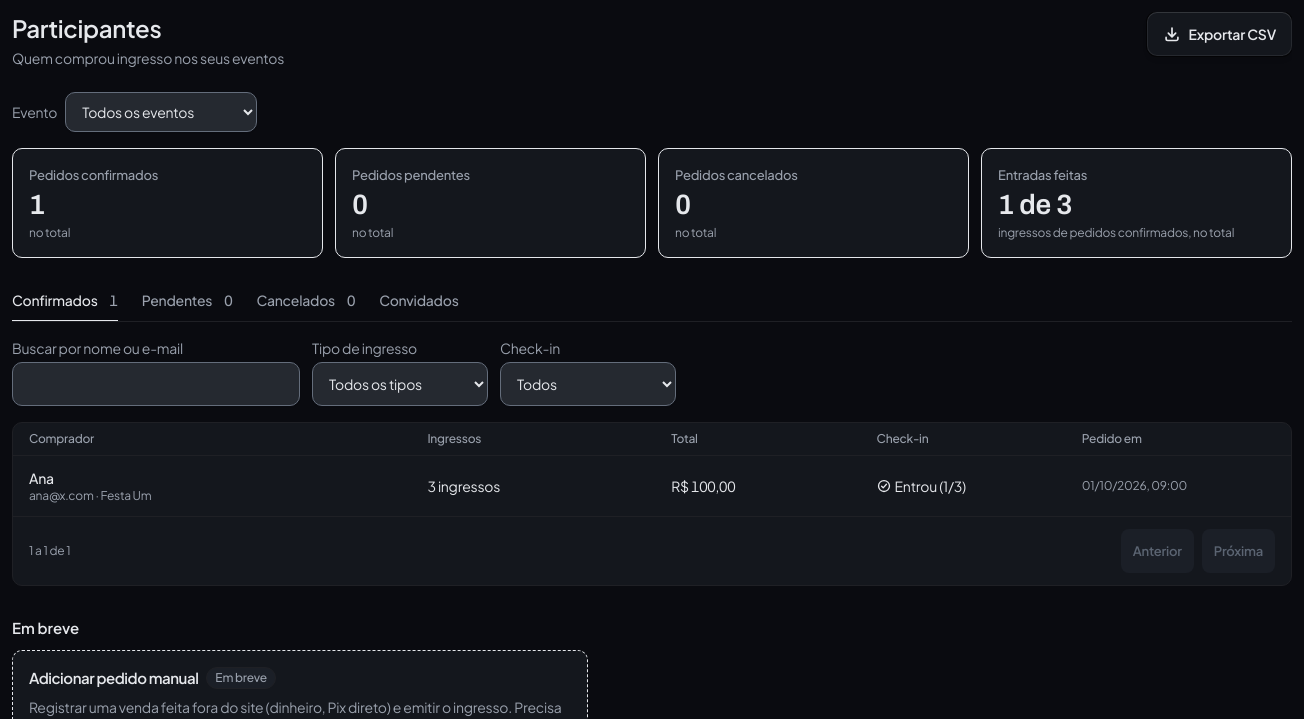
Test: tela Participantes › entrada parcial mostra Entrou 1/3 e some no filtro Sem entrada
This screenshot has width=1304, height=719.
Check: the text "Entrou (1/3)" is shown, box x1=876 y1=477 x2=966 y2=495
Check: the text "1 de 3" is shown, box x1=998 y1=189 x2=1072 y2=220
Select "Sem entrada" in the dropdown labelled "Check-in". click: (588, 384)
box: x1=500 y1=362 x2=676 y2=406
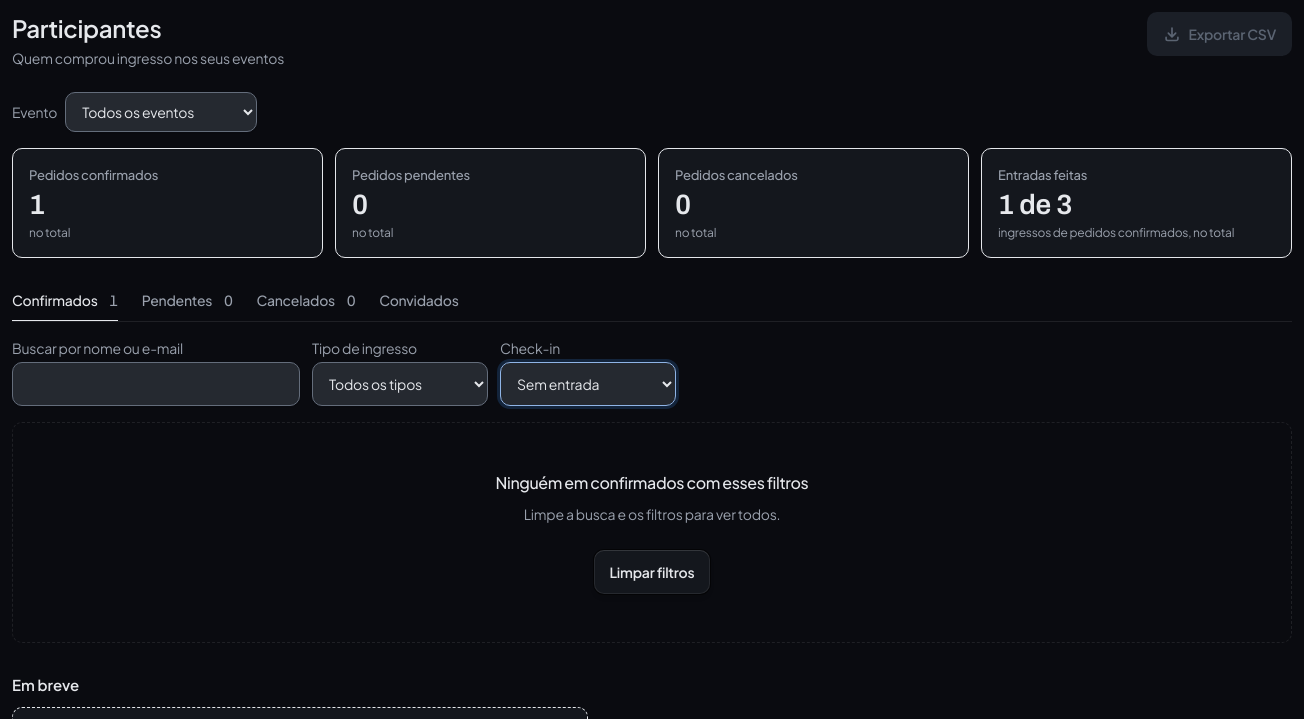
Check: the button "Entrou (1/3)" is gone
